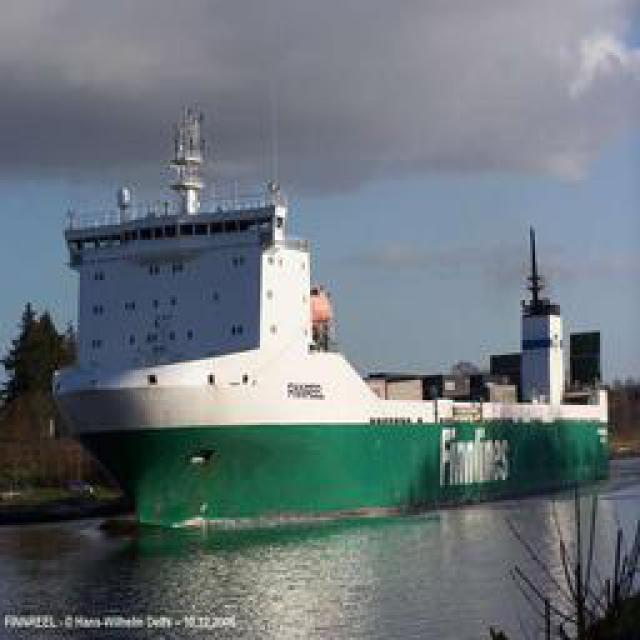Ship: (43, 94, 640, 529)
